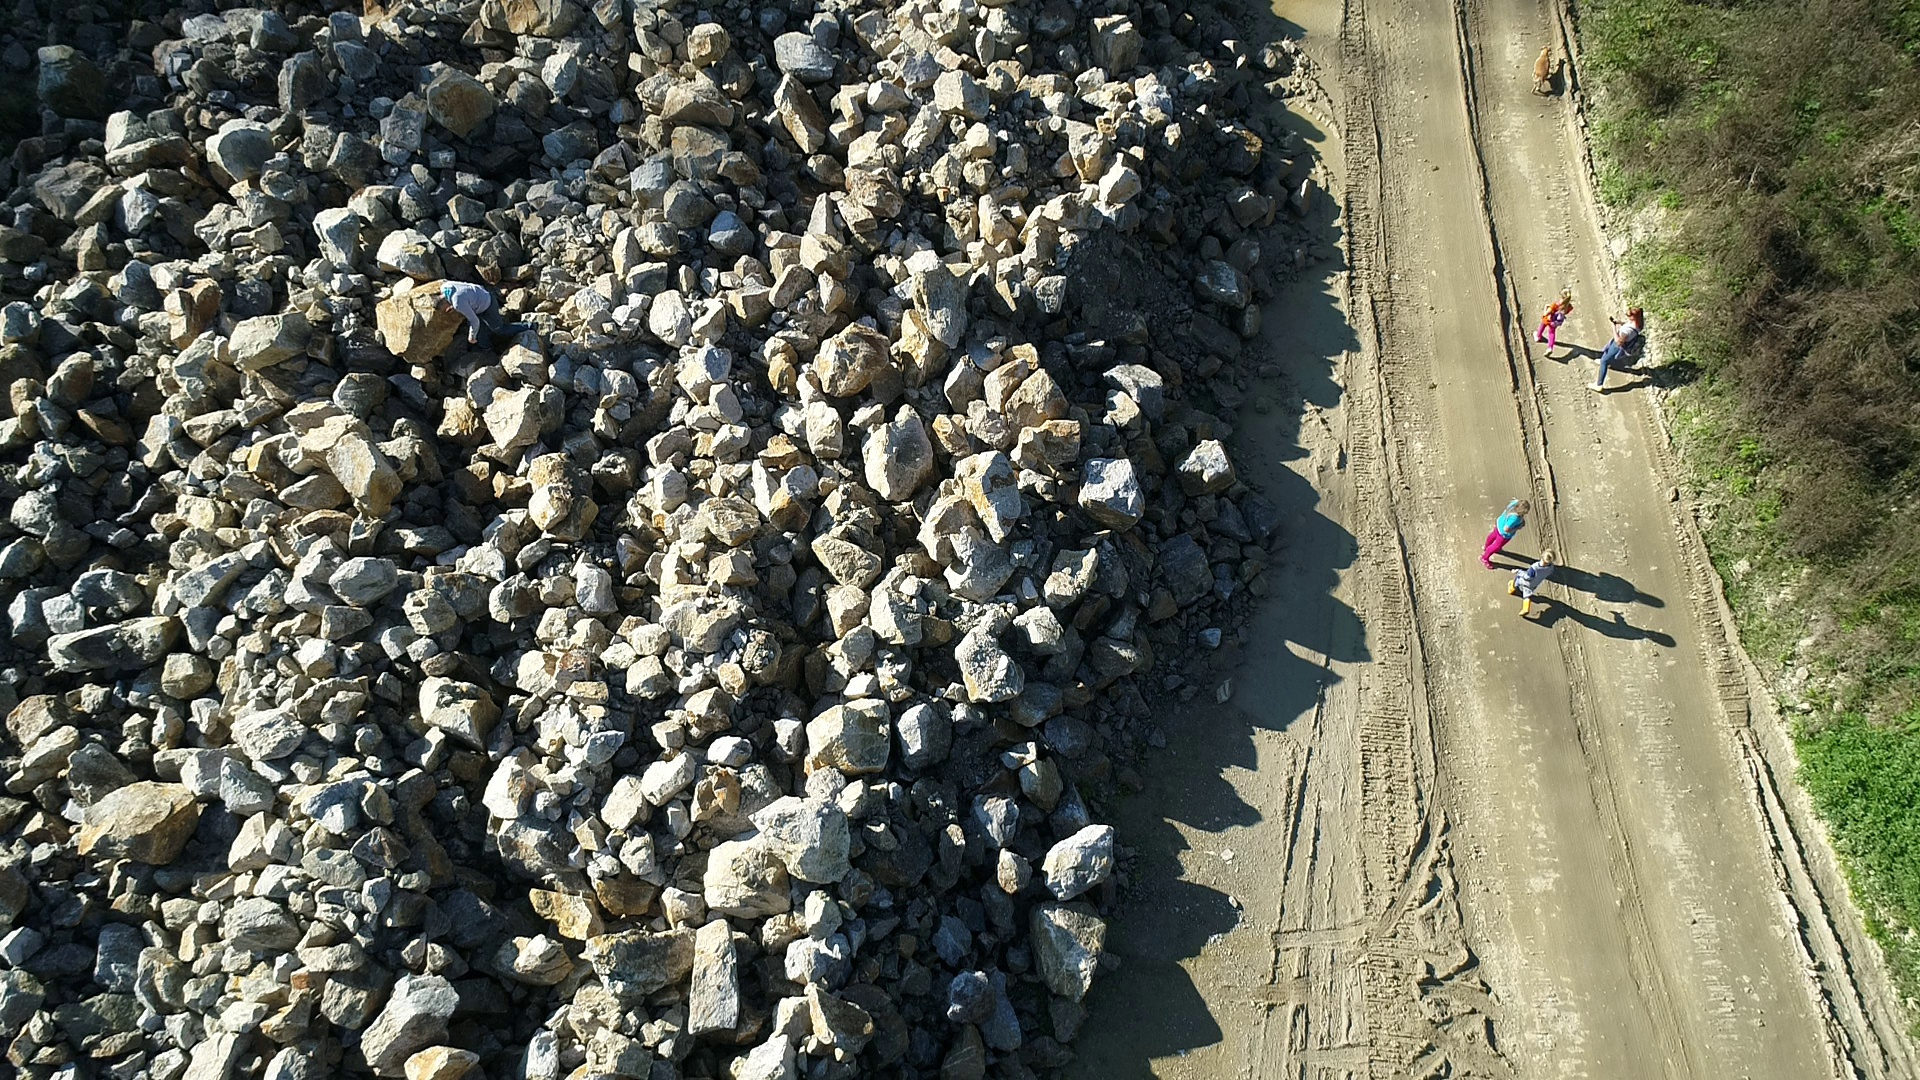person: (429, 279, 508, 345), (1585, 306, 1646, 392), (1478, 498, 1531, 572), (1508, 548, 1558, 618), (1533, 288, 1576, 358)
